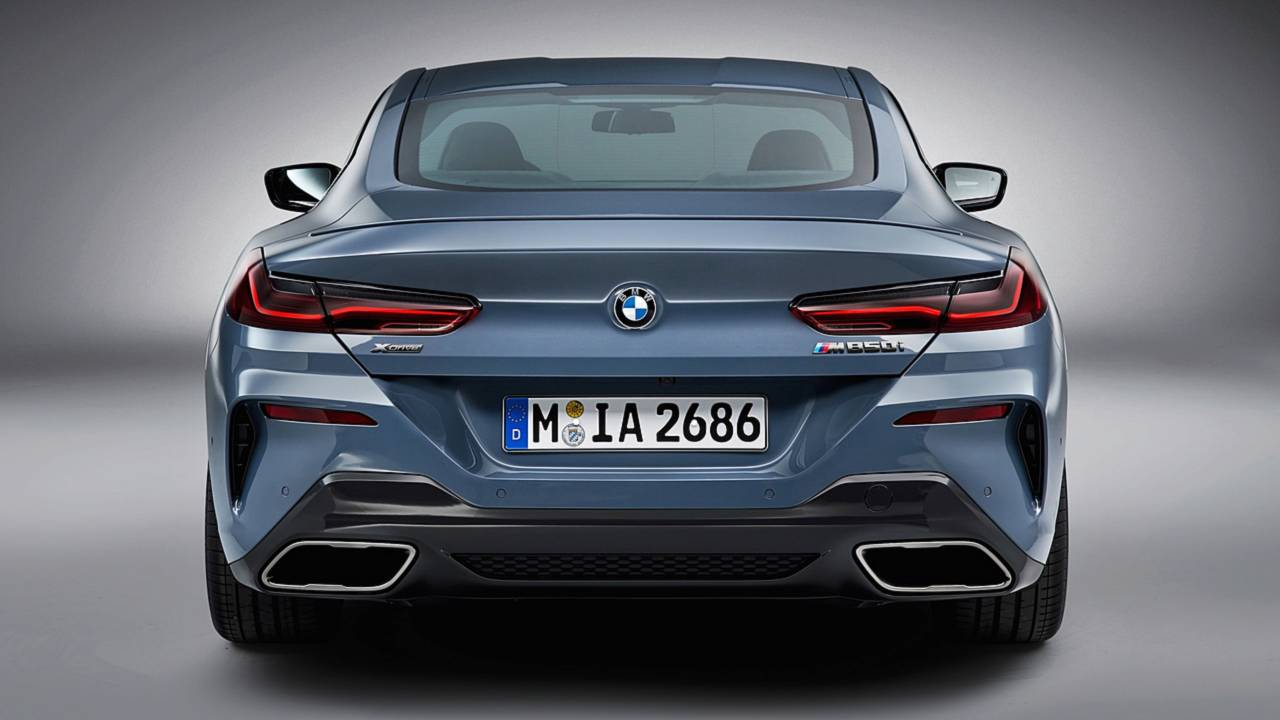bmw: (188, 25, 1088, 678)
